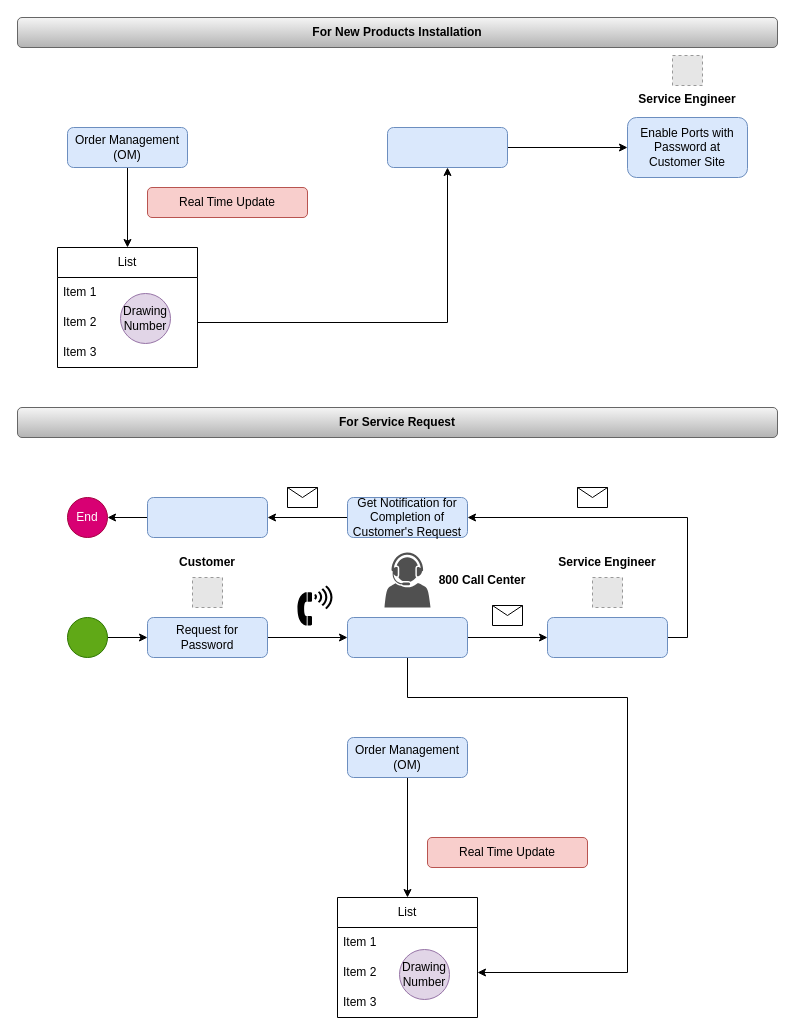
The diagram is 795 pixels wide and 1035 high, and some of its shapes have lost their labels. Grey dashed boxes stand in for pictures. The centre of each missing label's shape, as x and y in pixels:
"Delivery" belongs at [447,147].
"Handle with Customer’s Request" belongs at [607,637].
"Notify Customer" belongs at [207,517].
"Process with Customer's Request" belongs at [407,637].
"Start" belongs at [87,637].
